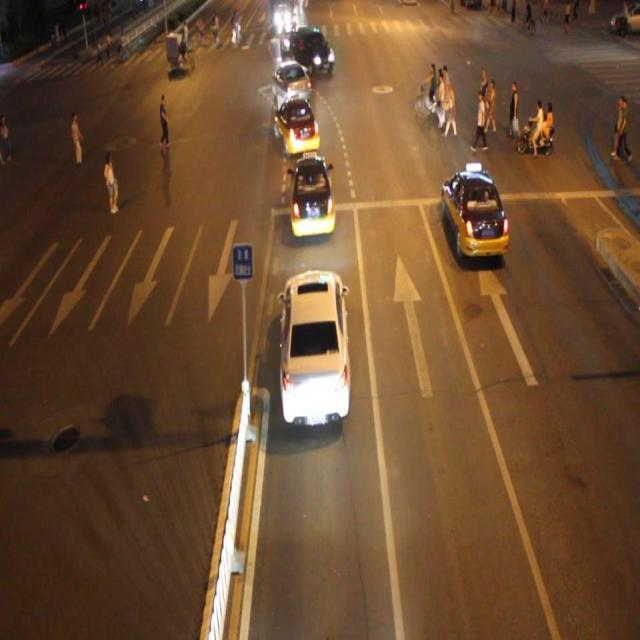car: (278, 269, 349, 421), (441, 166, 508, 259), (290, 154, 335, 238), (272, 96, 322, 154), (291, 22, 333, 74), (272, 61, 311, 104)
